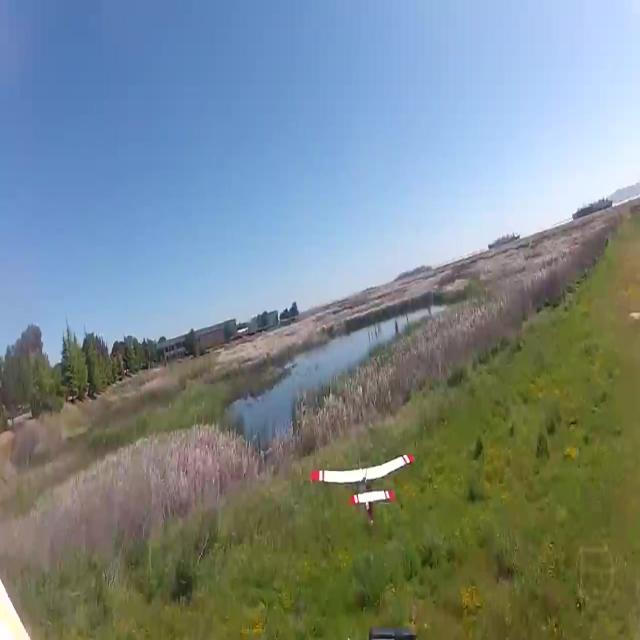iha: (340, 487, 385, 492)
